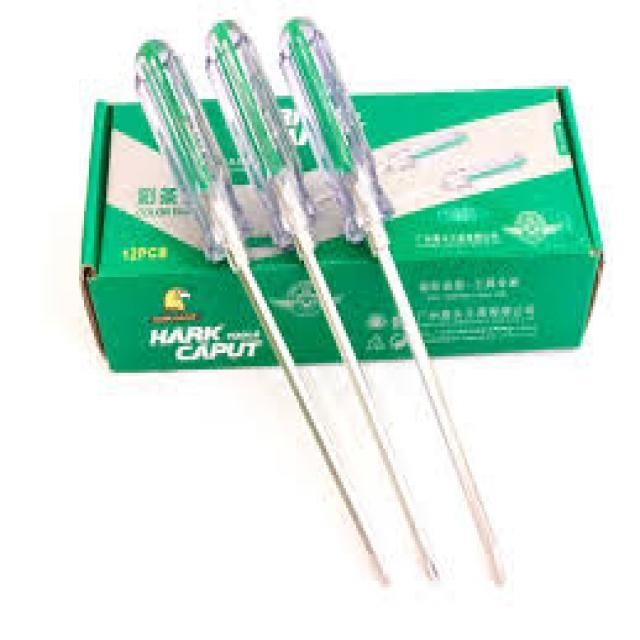screwdriver: (128, 30, 393, 588), (202, 18, 442, 589), (278, 16, 508, 584)
